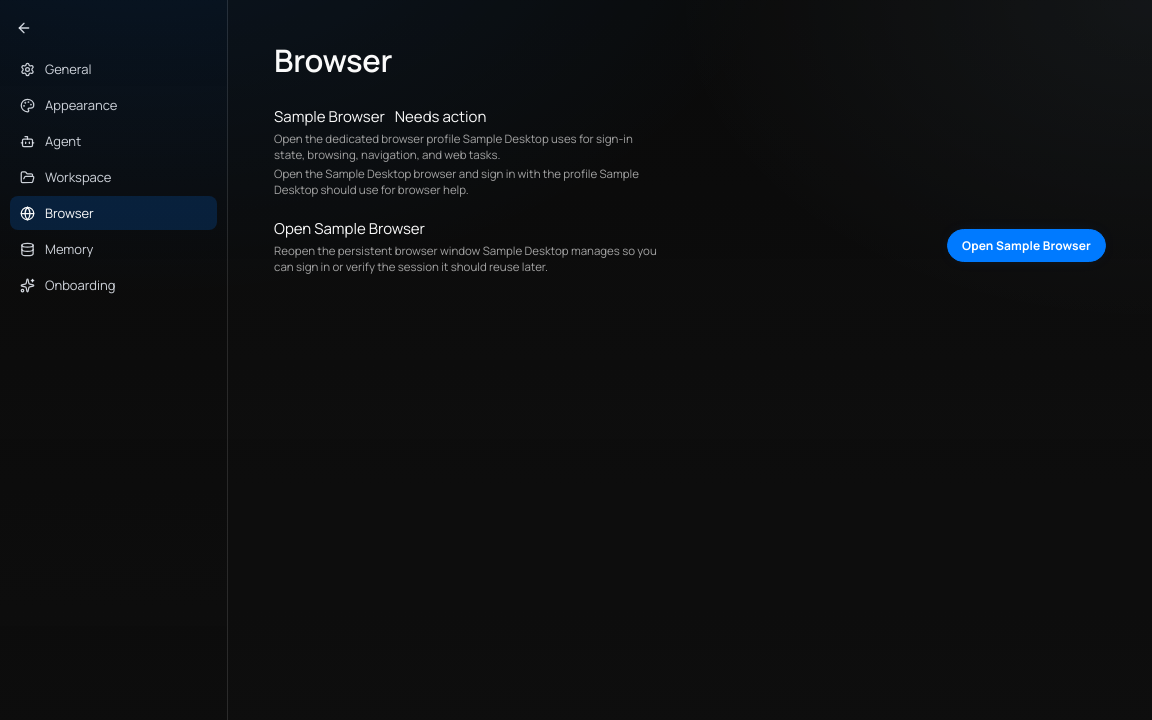
SettingsSection › browser tab reuses the browser permission flow and persists enabled state on success
What coordinates should you click on to do the following:
click the button "Open Sample Browser"
I would click on:
 (1026, 246)
Its box is left=947, top=229, right=1106, bottom=262.
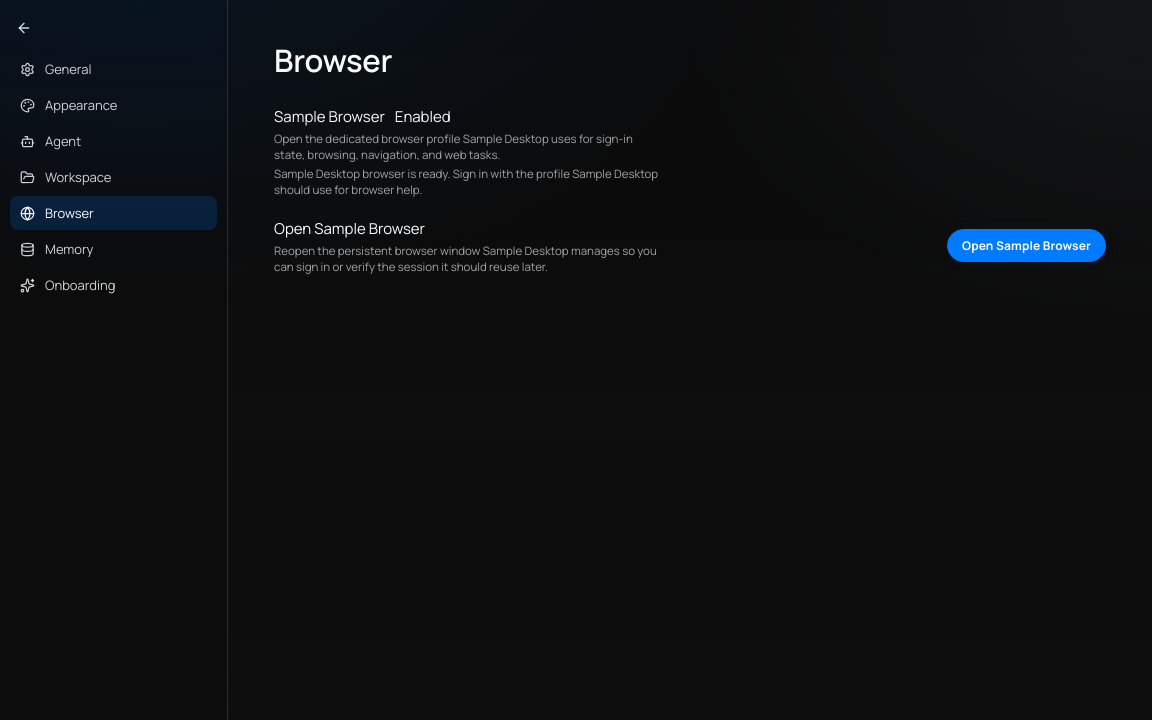
Check: the text "Sample Desktop browser is ready. Sign in with the profile Sample Desktop should use for browser help." is shown, box left=274, top=166, right=658, bottom=197
Check: the text "Enabled" is shown, box left=395, top=106, right=451, bottom=127
